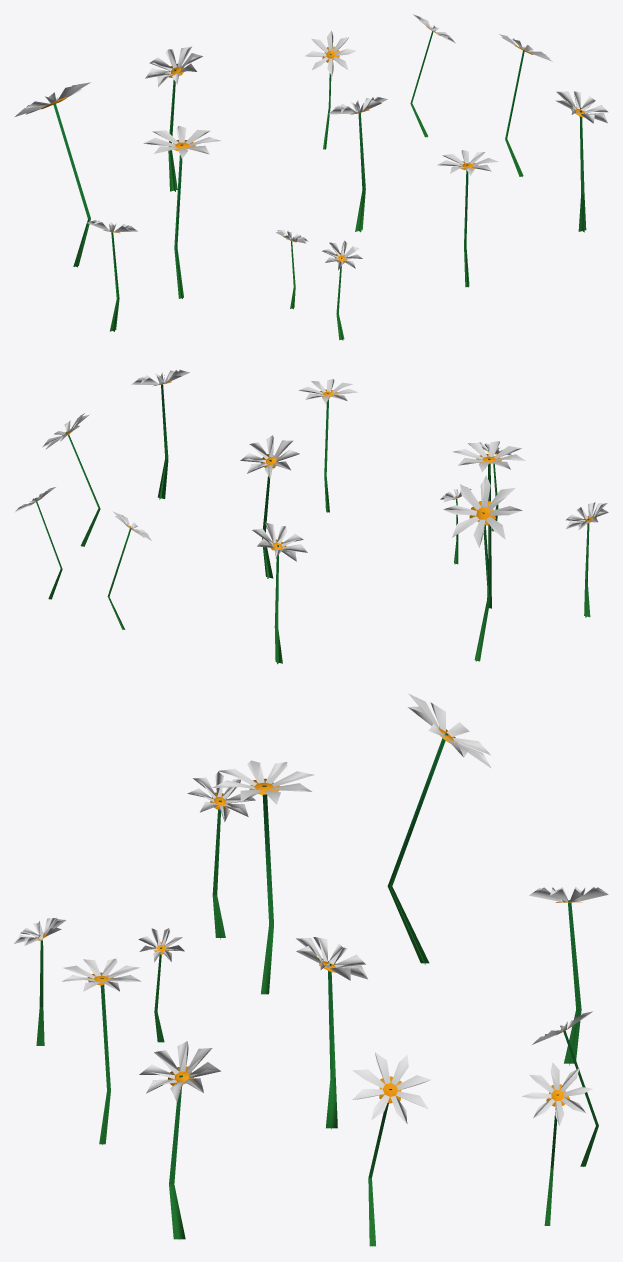
The model's file is flower_daisy_low.glb.
3 renders of one model, top to bottom at view 1: azimuth 30°, elevation 25°; view 2: azimuth 150°, elevation 25°; view 3: azimuth 270°, elevation 25°, orthographic. The views are drawn at different scales.
Visible parts, largest first — view 1: Flower 4_4_A; view 2: Flower 4_4_A; view 3: Flower 4_4_A.
Part boxes in pixels (x1,y1,x2,y2): Flower 4_4_A: (15,14,608,340); Flower 4_4_A: (14,369,608,664); Flower 4_4_A: (14,693,608,1246).
Bounding box in the file's own units: 0.7351 × 0.2547 × 0.5391.
1 material, 1 textured.
